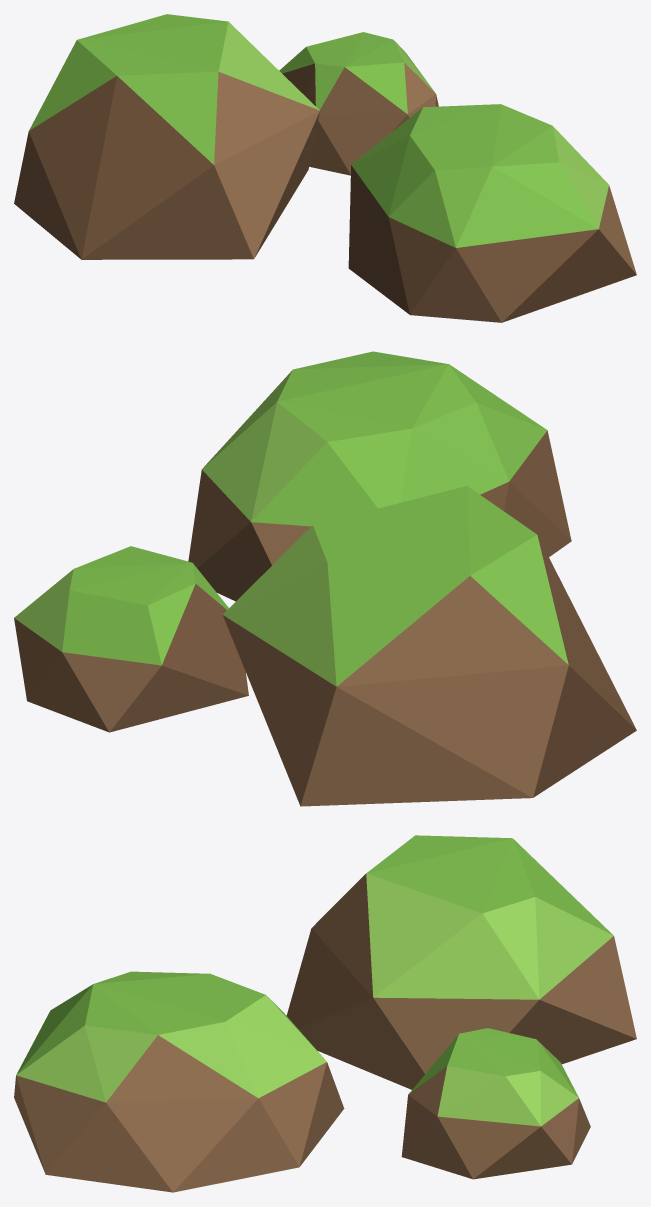
The model's file is rock_largeA.glb.
The picture shows the model from 3 angles, top to bottom: view 1: azimuth 30°, elevation 25°; view 2: azimuth 150°, elevation 25°; view 3: azimuth 270°, elevation 25°; orthographic projection. The views are drawn at different scales.
Visible parts, largest first — view 1: rock_largeA; view 2: rock_largeA; view 3: rock_largeA.
Boxes of the visible parts, x1=… form: rock_largeA: x1=14, y1=14, x2=636, y2=322; rock_largeA: x1=14, y1=351, x2=636, y2=806; rock_largeA: x1=14, y1=835, x2=636, y2=1192.
Bounding box in the file's own units: 0.7261 × 0.2498 × 0.8553.
1 material, 1 textured.
